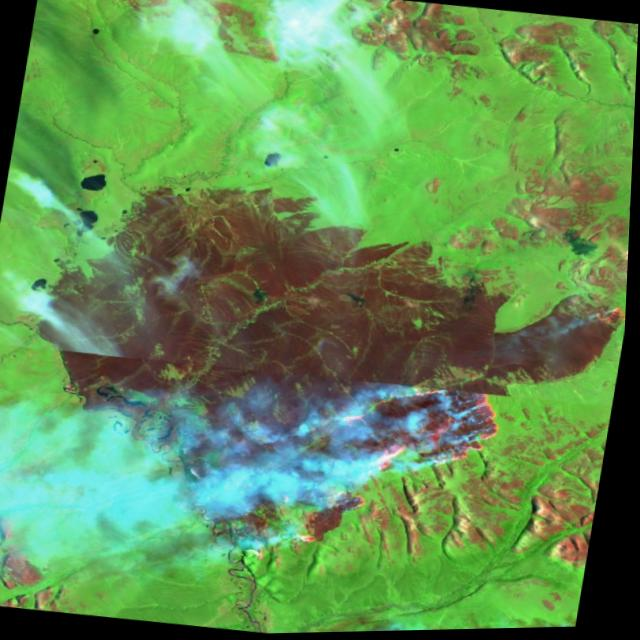fire: (204, 359, 519, 590)
